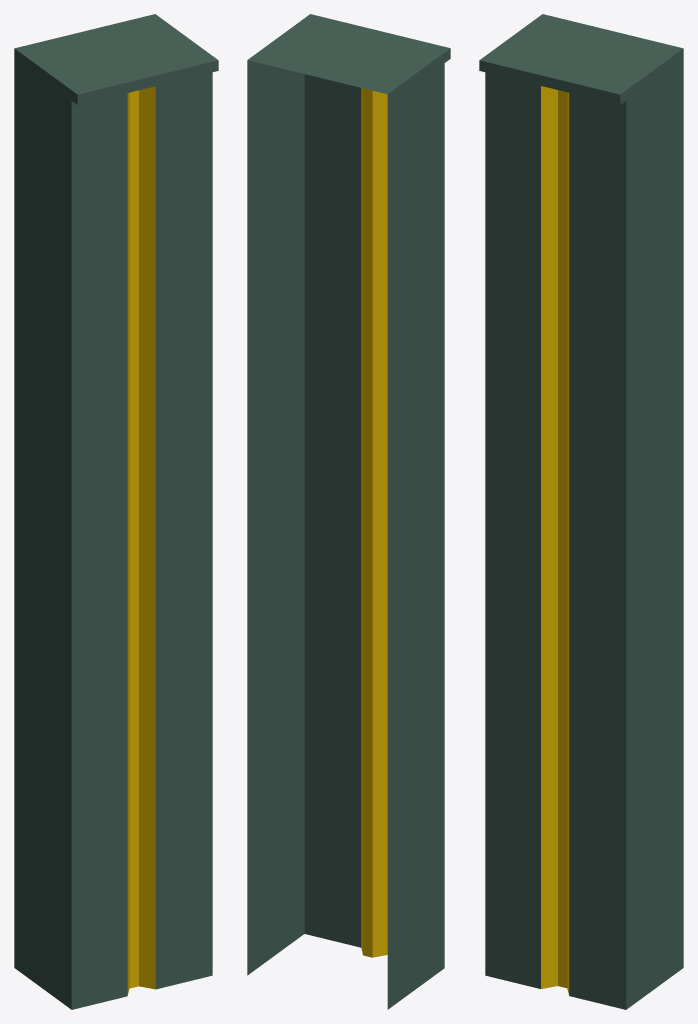
3 views of the same model, side by side, from view 1: azimuth 30°, elevation 25°; view 2: azimuth 150°, elevation 25°; view 3: azimuth 330°, elevation 25° (orthographic).
Parts seen in each view (by area): view 1: Column.060; view 2: Column.060; view 3: Column.060.
Boxes of the visible parts, bbox=[...] form: Column.060: bbox=[14, 14, 218, 1009]; Column.060: bbox=[247, 14, 450, 1009]; Column.060: bbox=[479, 14, 683, 1009].
Size of the model in its own units: 278 by 1737 by 217.
